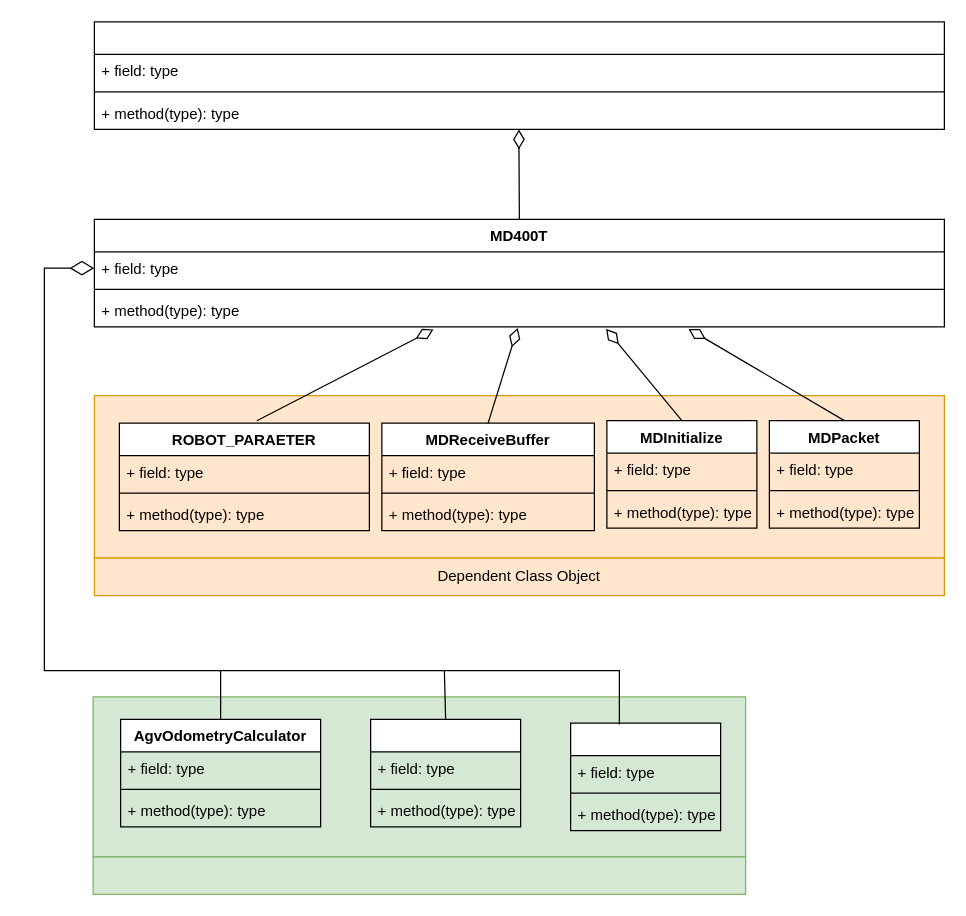
Some shapes in this 966 by 916 pixel diagram are drawn without their labels. The box of each missing label's shape, as (x1, y1, x2, y2) in pixels:
Public Class Object: (92, 856, 746, 894)
SmartDriving: (93, 21, 944, 129)
TestDrive: (369, 718, 521, 827)
WheelEncoder: (569, 722, 721, 831)
